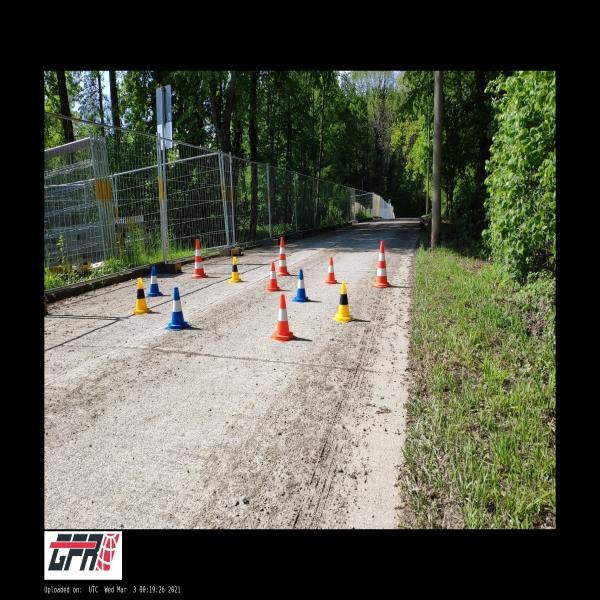blue_cone: (166, 287, 192, 331), (292, 269, 310, 302), (146, 266, 162, 298)
large_orange_cone: (372, 240, 391, 288), (191, 239, 207, 278), (276, 237, 290, 276)
orange_cone: (270, 294, 296, 343), (266, 262, 280, 292), (324, 257, 338, 284)
yellow_cone: (334, 282, 354, 323), (131, 278, 152, 314), (229, 256, 242, 282)
